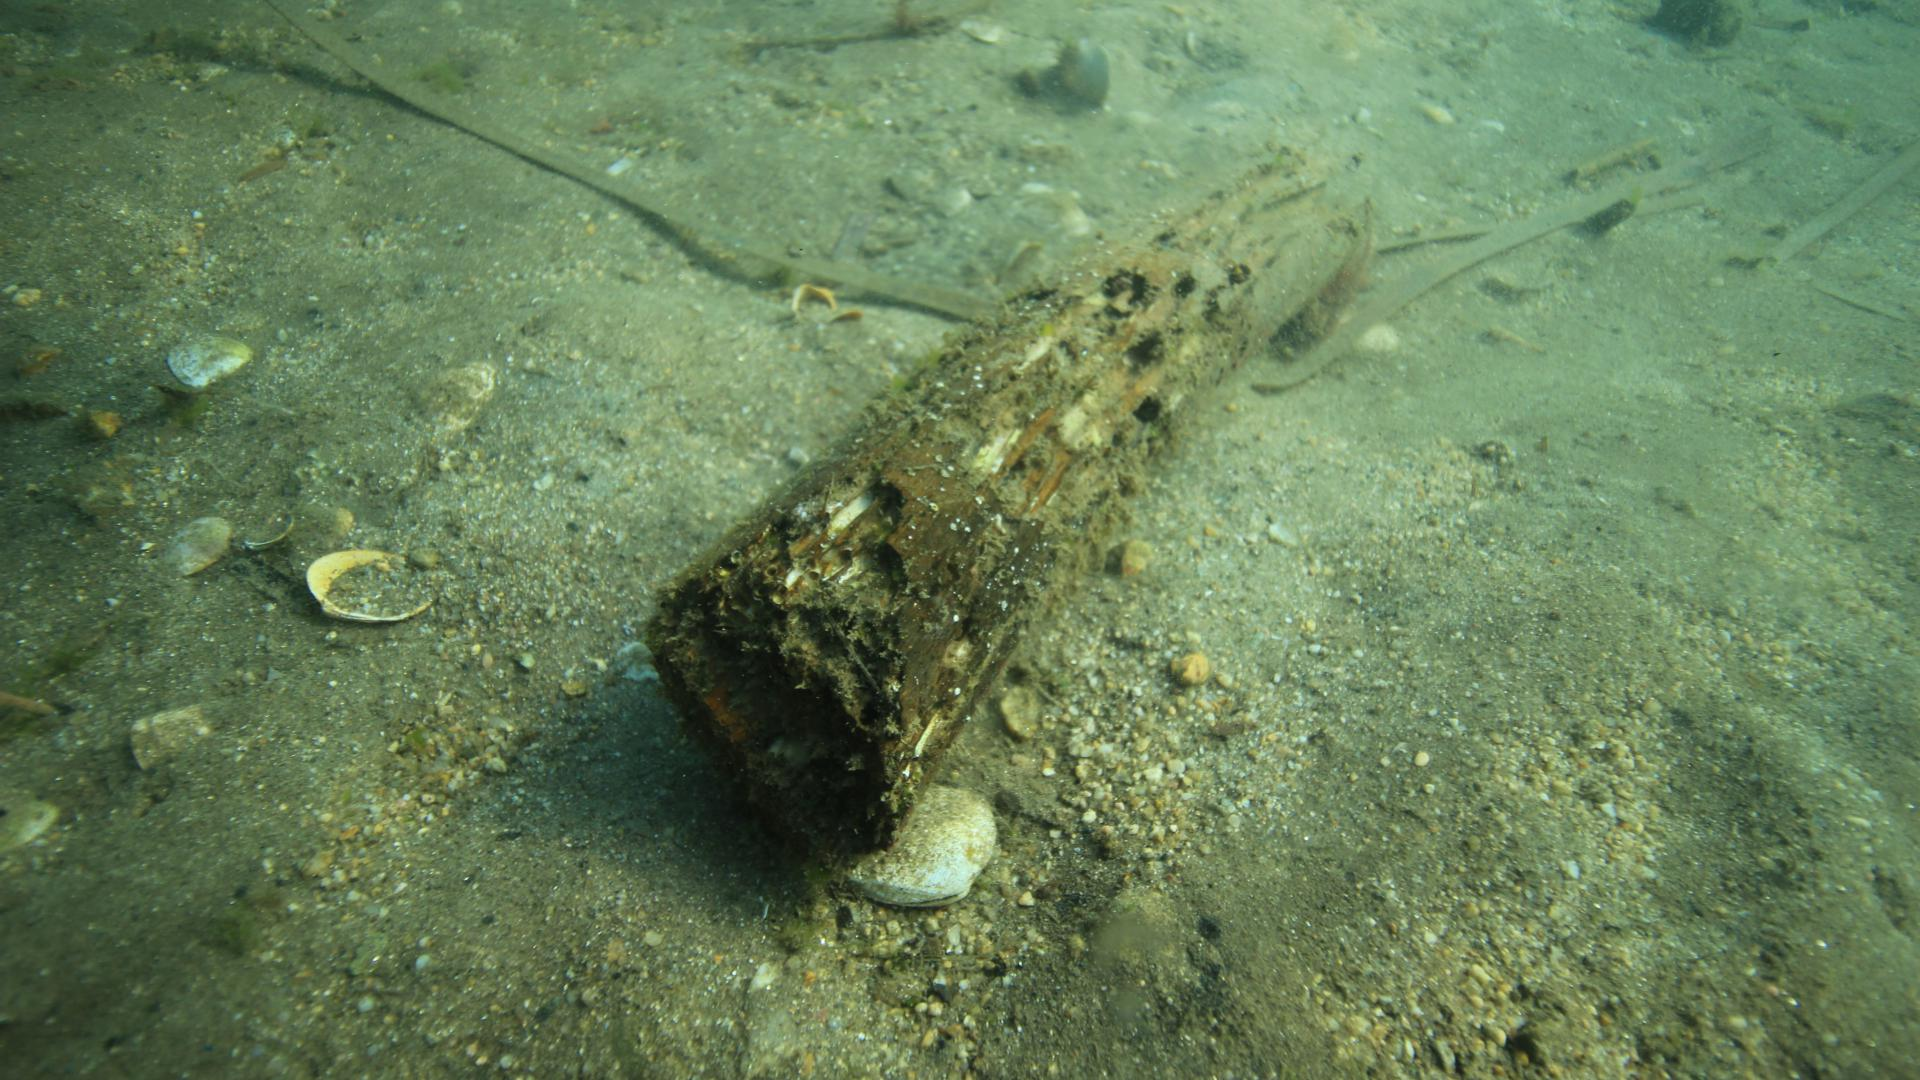wood: (649, 144, 1367, 872)
